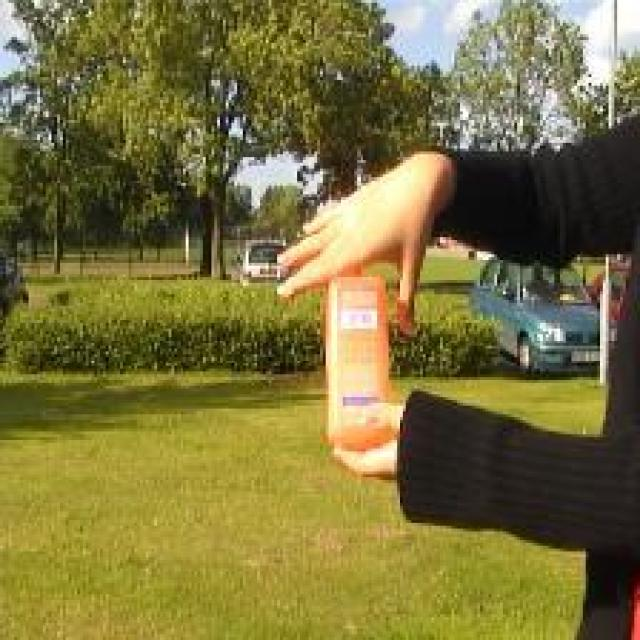other: (296, 255, 402, 440)
